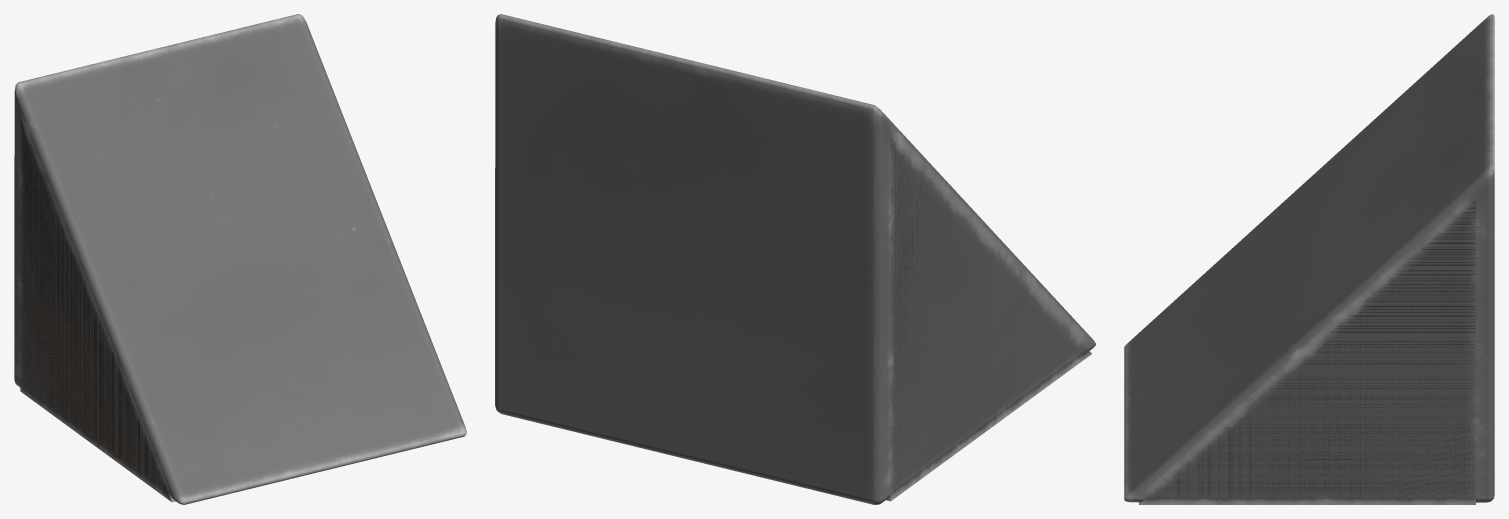
Rendered from SM_PartWedge.glb.
3 renders of one model, left to right at view 1: azimuth 30°, elevation 25°; view 2: azimuth 150°, elevation 25°; view 3: azimuth 270°, elevation 25°, orthographic. The views are drawn at different scales.
Parts seen in each view (by area): view 1: SM_PartWedge; view 2: SM_PartWedge; view 3: SM_PartWedge.
Part boxes in pixels (x1,y1,x2,y2): SM_PartWedge: [14, 14, 466, 504]; SM_PartWedge: [495, 14, 1095, 504]; SM_PartWedge: [1124, 14, 1494, 504].
Bounding box in the file's own units: 1 × 0.9898 × 0.9898.
Materials: 2 (2 with a texture image).
